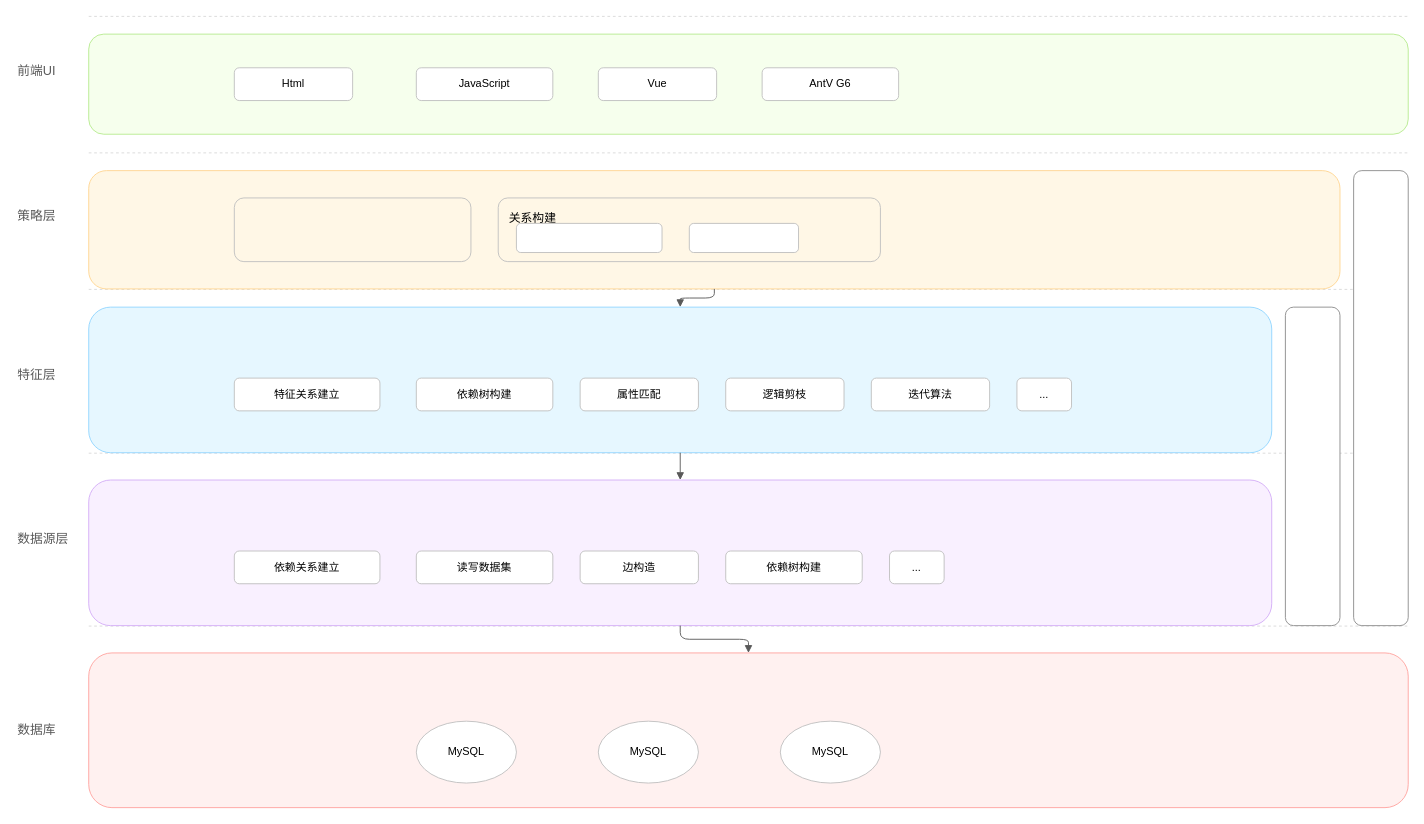
The diagram is 1424 pixels wide and 824 high, and some of its shapes have lost their labels. Each missing label, with the centre of its shape:
倒排索引: pixel 743 237
数据变更监听: pixel 1380 398
等值/正则匹配: pixel 589 237
策略类型划分: pixel 352 229
缓存: pixel 1312 466
